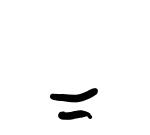eqv: (47, 82, 101, 122)
